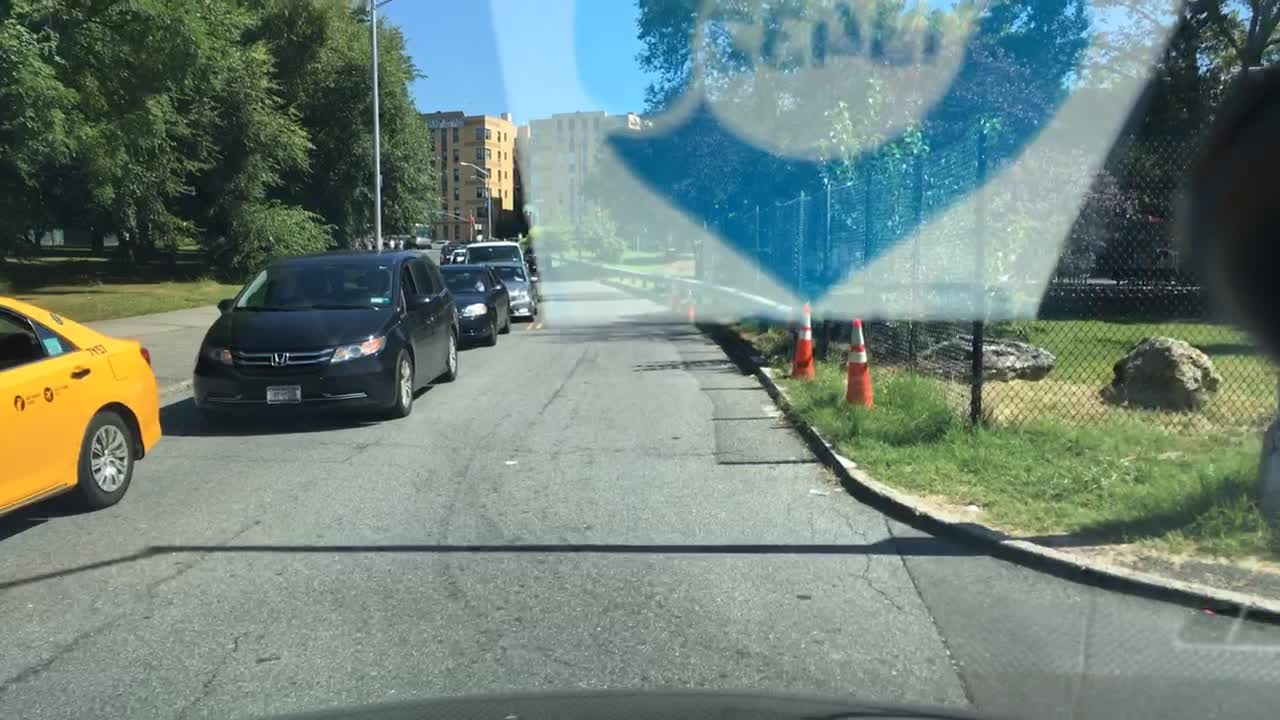car: (191, 248, 462, 419), (0, 286, 163, 532), (436, 259, 513, 347), (491, 261, 541, 322), (464, 239, 539, 264), (524, 244, 553, 274), (438, 239, 464, 264), (376, 230, 404, 247), (348, 233, 376, 249), (448, 245, 470, 262), (405, 233, 430, 247), (432, 236, 455, 251)
traffic sign: (471, 219, 485, 230)
